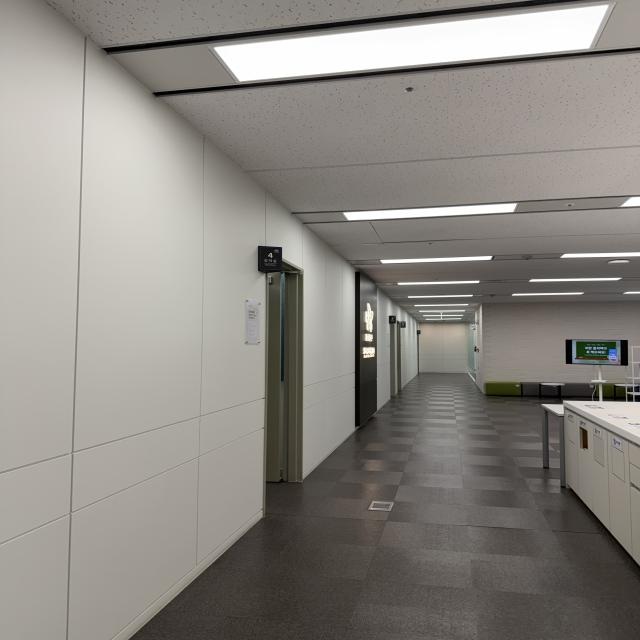room4: (259, 246, 284, 274)
